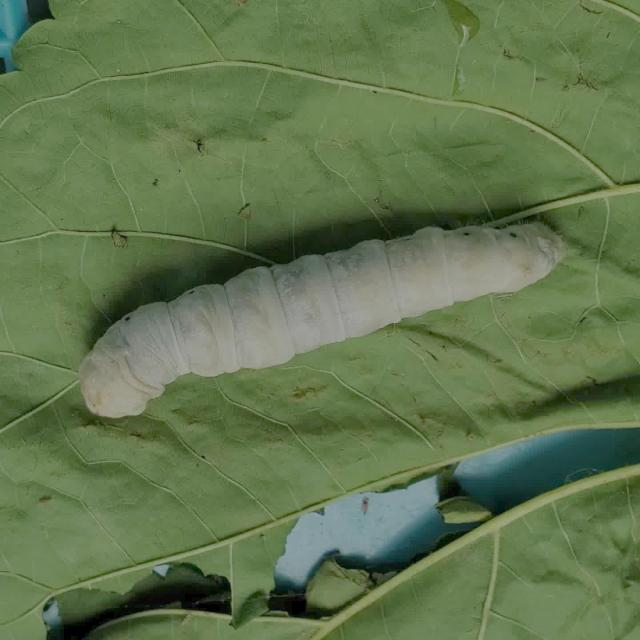Grasserie: (72, 188, 573, 468)
